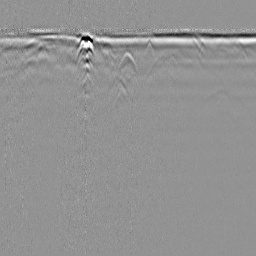cavity: (116, 48, 138, 72)
